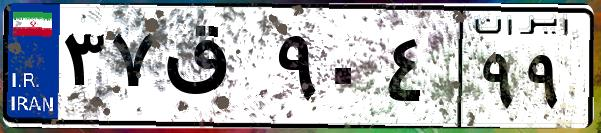0: (330, 28, 385, 110)
3: (57, 26, 110, 100)
4: (385, 28, 445, 110)
7: (110, 28, 158, 98)
9: (270, 28, 330, 110), (475, 38, 525, 113), (525, 38, 570, 115)
ق: (158, 20, 270, 120)
